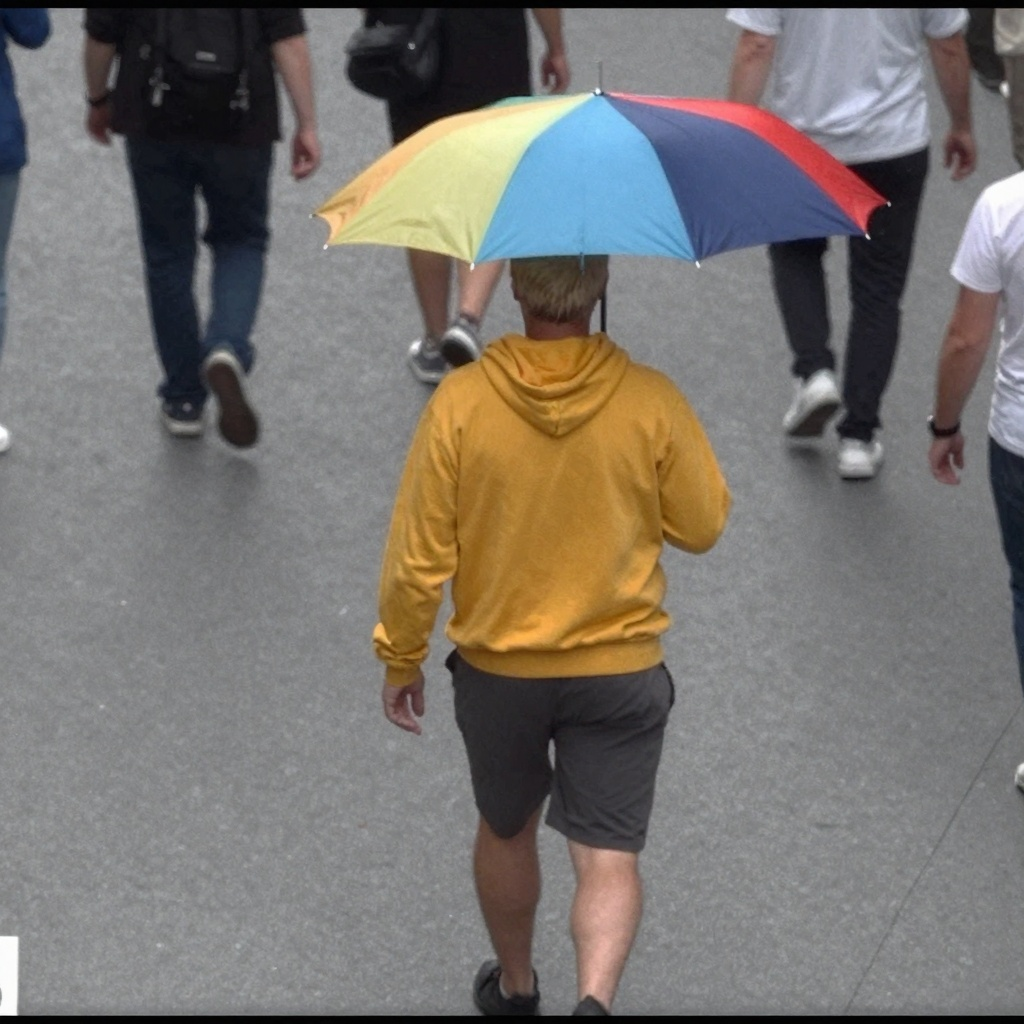Normal activity: (371, 260, 733, 1007), (722, 7, 979, 484), (85, 3, 322, 449), (338, 6, 573, 389), (925, 167, 1024, 798), (355, 6, 570, 147), (0, 6, 54, 458), (0, 9, 37, 455), (405, 254, 506, 384)
